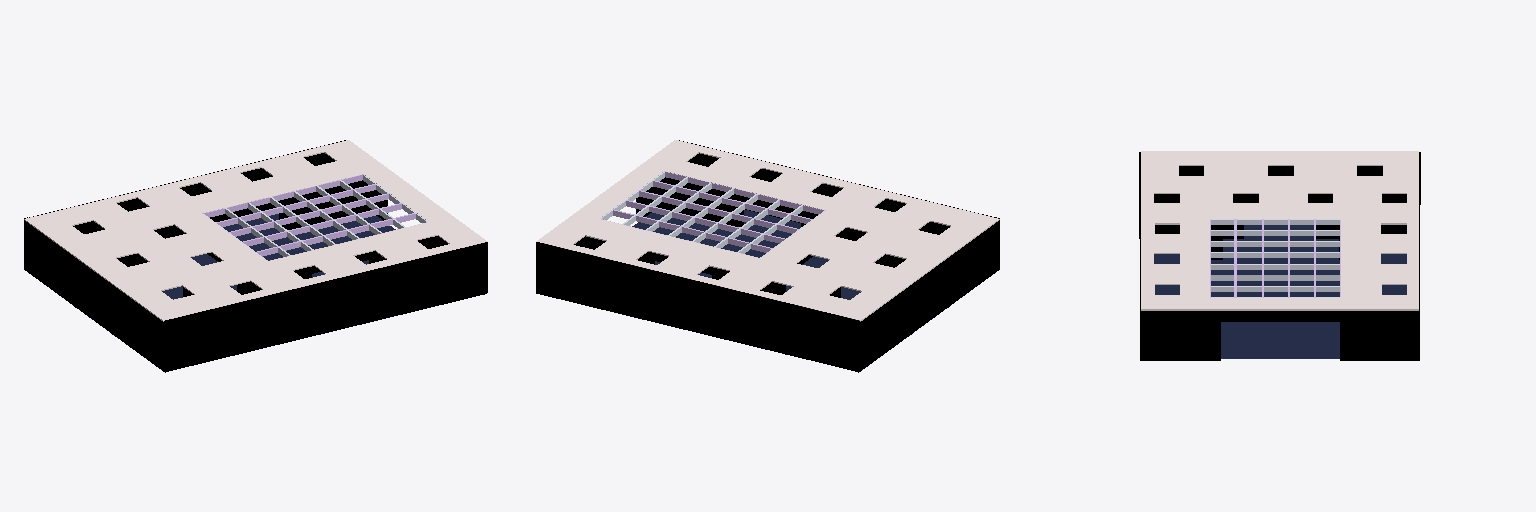
Rendered from thismuseo.obj.
The picture shows the model from 3 angles: view 1: azimuth 30°, elevation 25°; view 2: azimuth 150°, elevation 25°; view 3: azimuth 270°, elevation 25°; orthographic projection.
Parts seen in each view (by area): view 1: Object_40, Object_18, Object_20, Object_4, Object_6, Object_38; view 2: Object_40, Object_18, Object_20, Object_4, Object_6, Object_38; view 3: Object_40, Object_20, Object_38, Object_6, Object_4.
Part boxes in pixels (x1,y1,x2,y2): Object_40: (24,140,487,321); Object_18: (29,140,485,370); Object_20: (24,190,487,372); Object_4: (203,174,426,260); Object_6: (204,175,427,260); Object_38: (162,214,395,299); Object_40: (536,140,999,321); Object_18: (538,140,995,370); Object_20: (536,187,999,372); Object_4: (601,171,825,257); Object_6: (600,172,823,257); Object_38: (632,210,860,299); Object_40: (1141,151,1418,310); Object_20: (1139,152,1420,360); Object_38: (1154,225,1406,358); Object_6: (1211,219,1340,297); Object_4: (1210,219,1340,297).
Bounding box in the file's own units: 21.35 × 3.24 × 16.06.